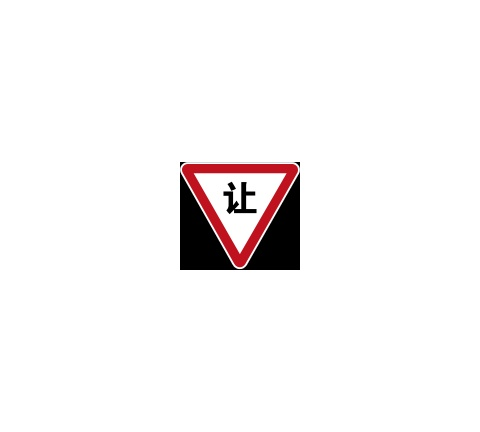China_Yield/give way: (135, 105, 345, 325)
